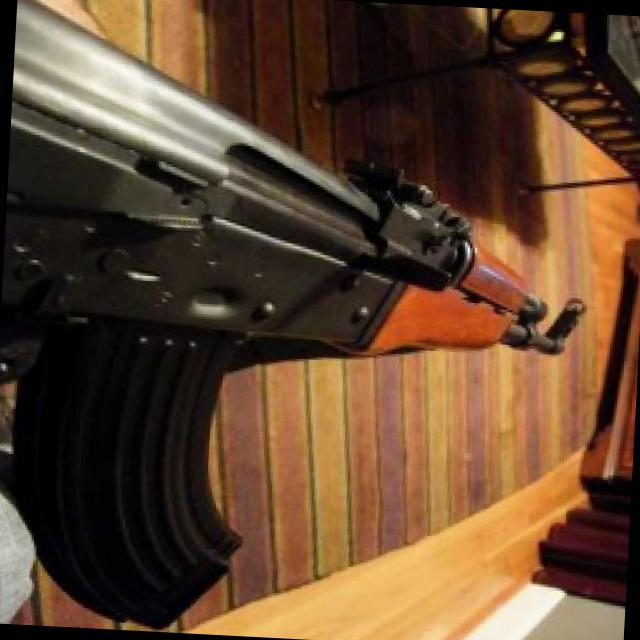long weapon: (0, 21, 600, 562)
